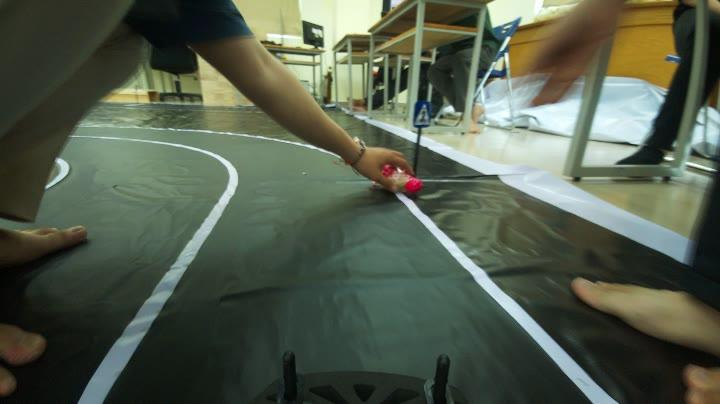crosswalk: (408, 95, 437, 129)
